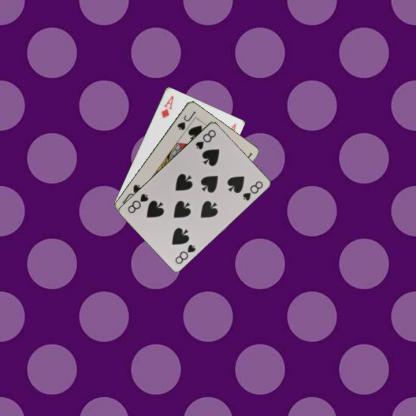8s: (192, 126, 218, 150), (172, 242, 197, 266)
Ad: (158, 93, 174, 119)
Js: (174, 108, 198, 131)
